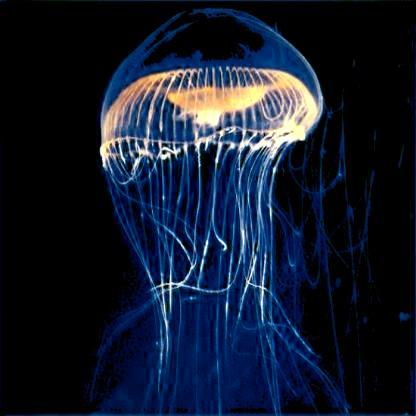FriedEggs: (101, 8, 325, 354)
